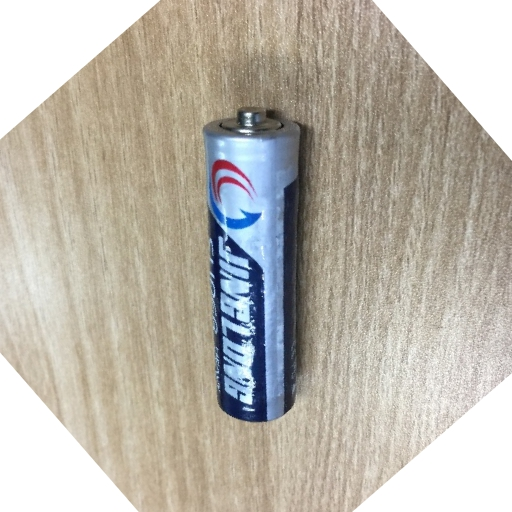Battery_0: (192, 94, 317, 429)
